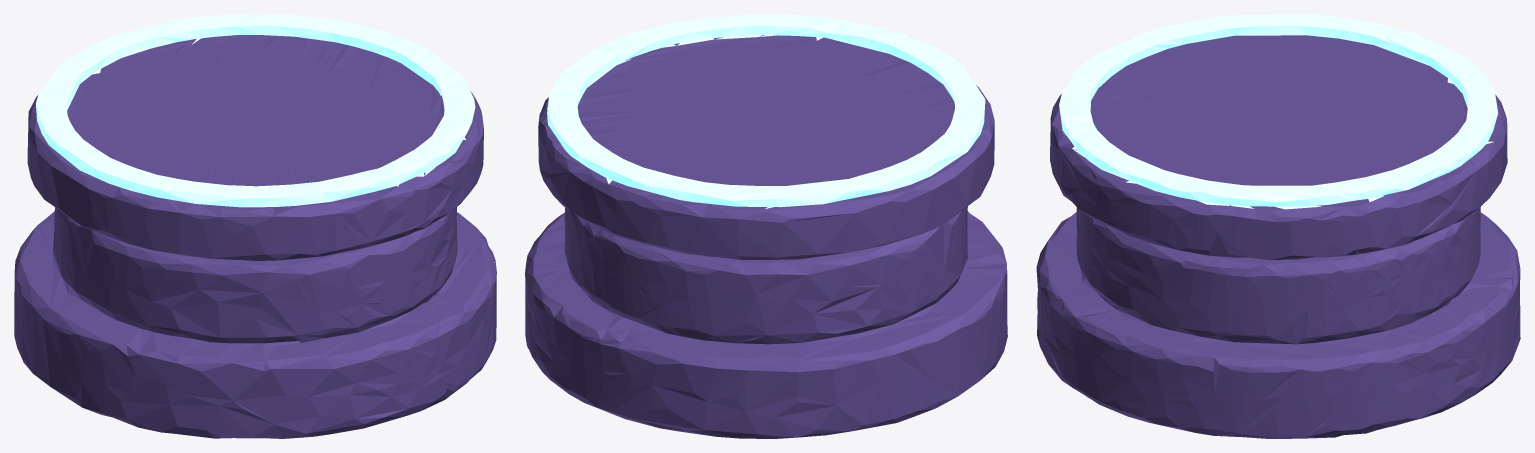
The model's file is pedestal-blue.glb.
3 views of the same model, side by side, from view 1: azimuth 30°, elevation 25°; view 2: azimuth 150°, elevation 25°; view 3: azimuth 270°, elevation 25° (orthographic).
Visible parts, largest first — view 1: stone, ring-blue; view 2: stone, ring-blue; view 3: stone, ring-blue.
Part boxes in pixels (box(x1,y1,x2,y2)): stone: box(14, 35, 496, 438); ring-blue: box(36, 14, 475, 207); stone: box(525, 35, 1007, 438); ring-blue: box(547, 14, 985, 208); stone: box(1036, 35, 1520, 438); ring-blue: box(1059, 14, 1498, 209).
Size of the model in its own units: 1.1 by 0.5927 by 1.1.
